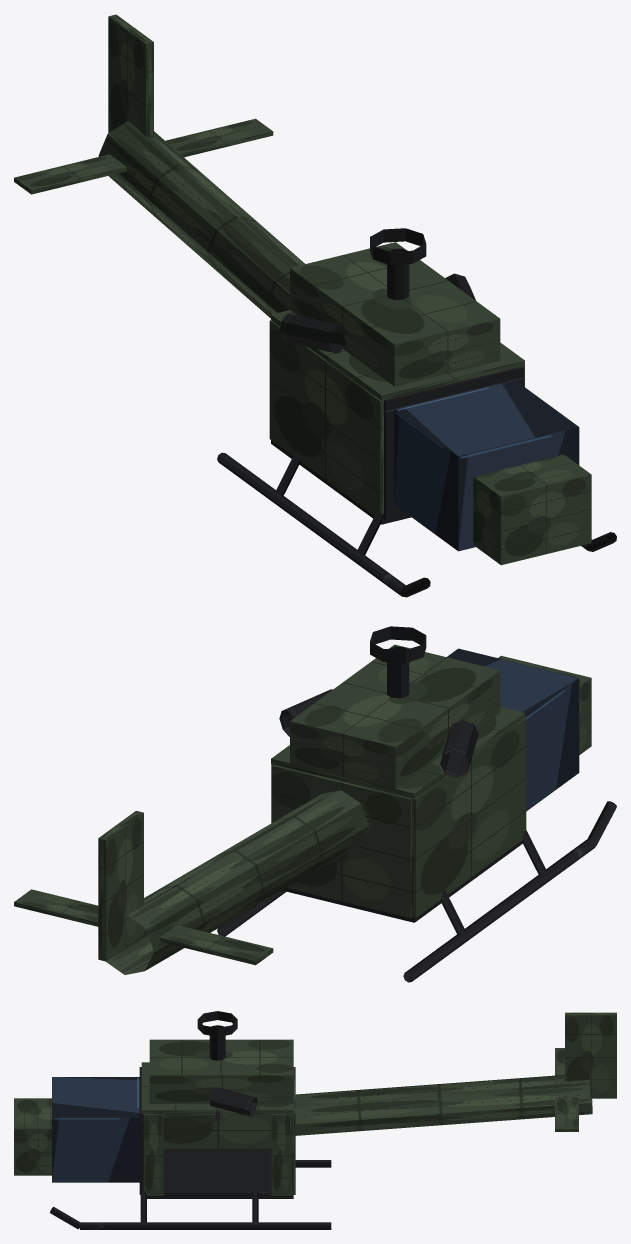
File: helicopter_body.obj
The picture shows the model from 3 angles, top to bottom: view 1: azimuth 30°, elevation 25°; view 2: azimuth 150°, elevation 25°; view 3: azimuth 270°, elevation 25°; orthographic projection. The views are drawn at different scales.
Parts seen in each view (by area): view 1: HelicopterPart; view 2: HelicopterPart; view 3: HelicopterPart.
Boxes of the visible parts, bbox=[...] form: HelicopterPart: bbox=[14, 14, 616, 597]; HelicopterPart: bbox=[14, 626, 616, 982]; HelicopterPart: bbox=[14, 1011, 616, 1229].
Size of the model in its own units: 4.8 by 5.15 by 15.1.
1 material, 1 textured.
